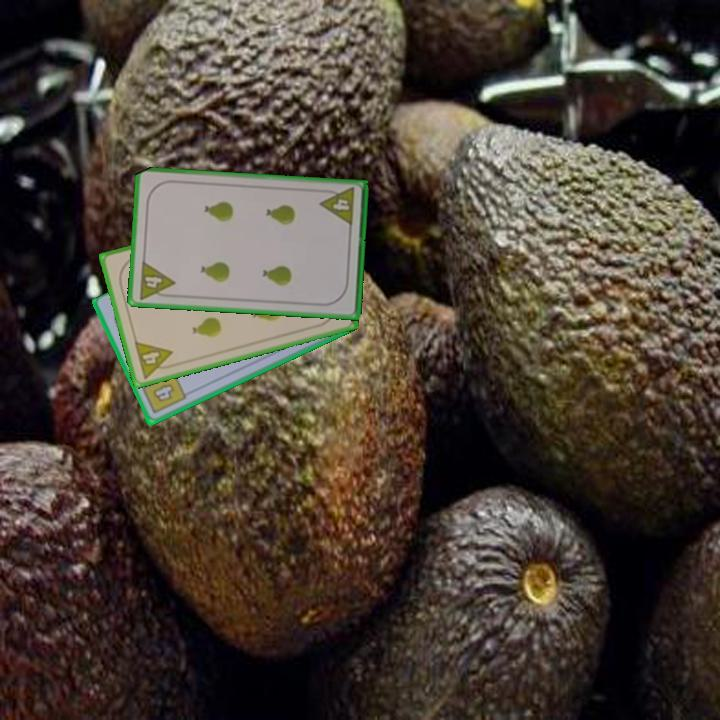4b: (138, 370, 189, 417)
4p: (131, 338, 179, 381), (135, 258, 177, 302), (317, 184, 357, 229)
